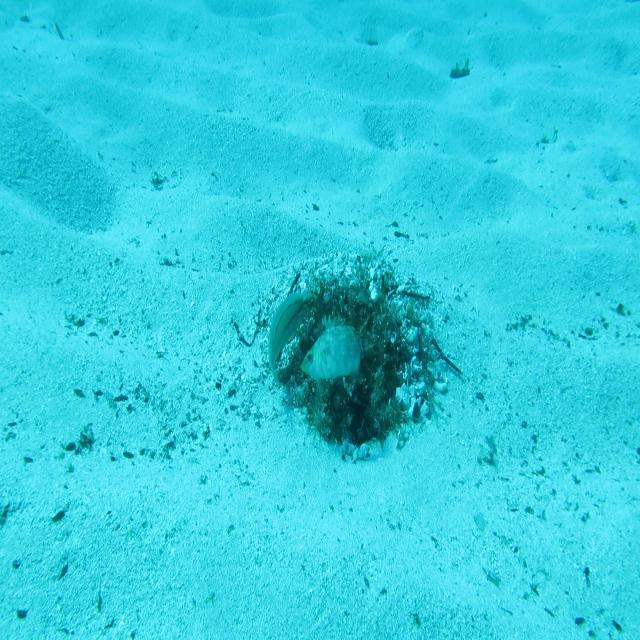DAN_CIRC: (300, 311, 362, 388)
core_nest: (326, 296, 366, 347)
female: (266, 288, 316, 392)
nest: (246, 234, 452, 483)
vegetation: (449, 57, 473, 81)
